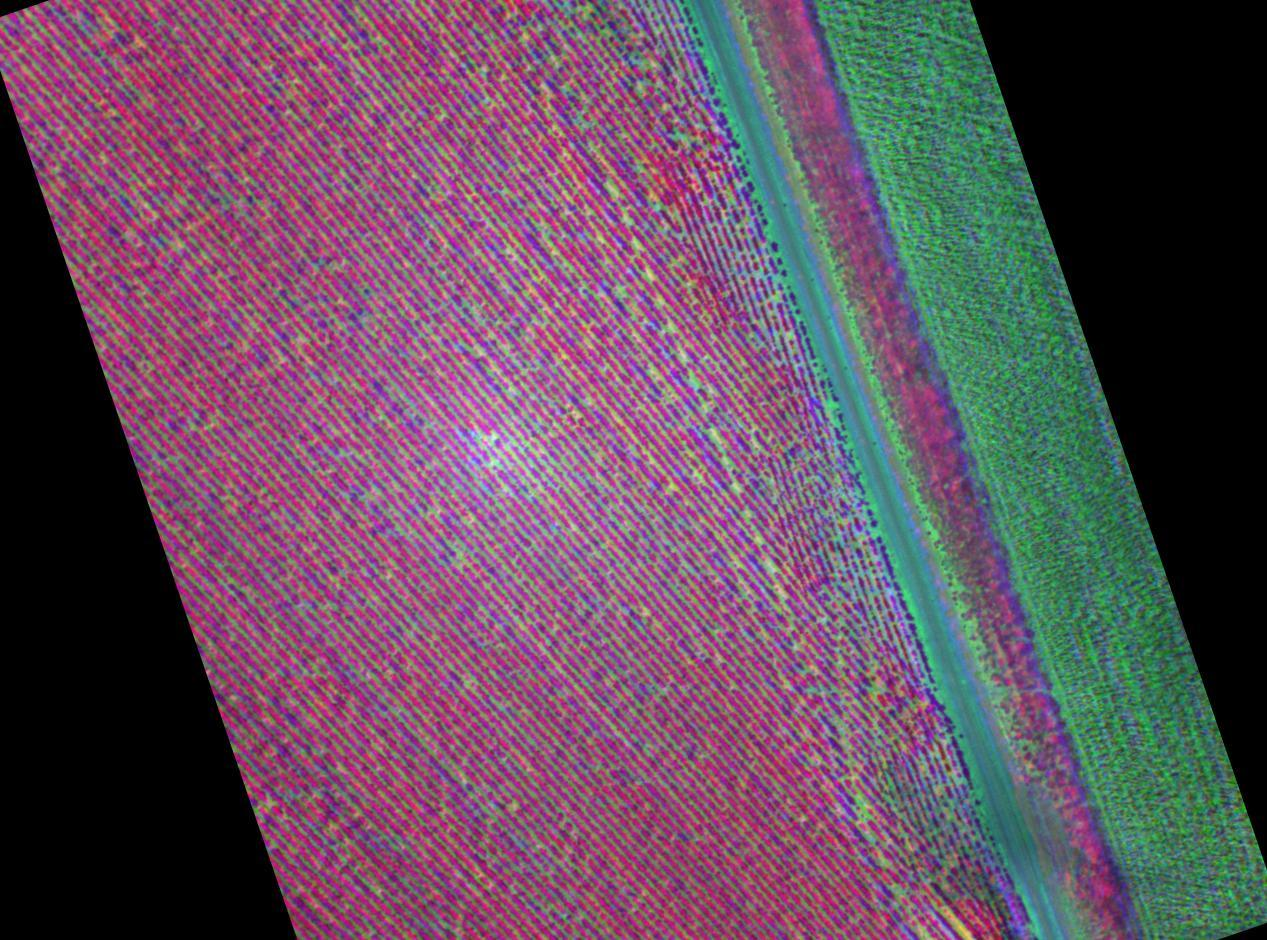dc: (733, 486, 738, 491), (867, 836, 872, 841), (457, 552, 462, 556), (885, 859, 889, 864), (845, 740, 849, 744), (856, 801, 860, 805)
